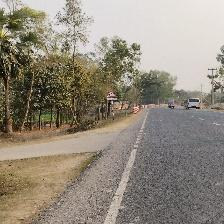Right-turn: (104, 89, 118, 103)
